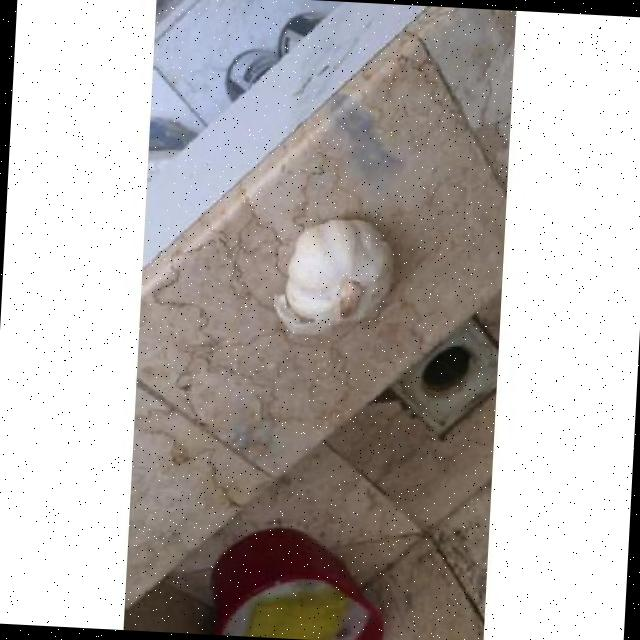garlic: (273, 219, 392, 335)
